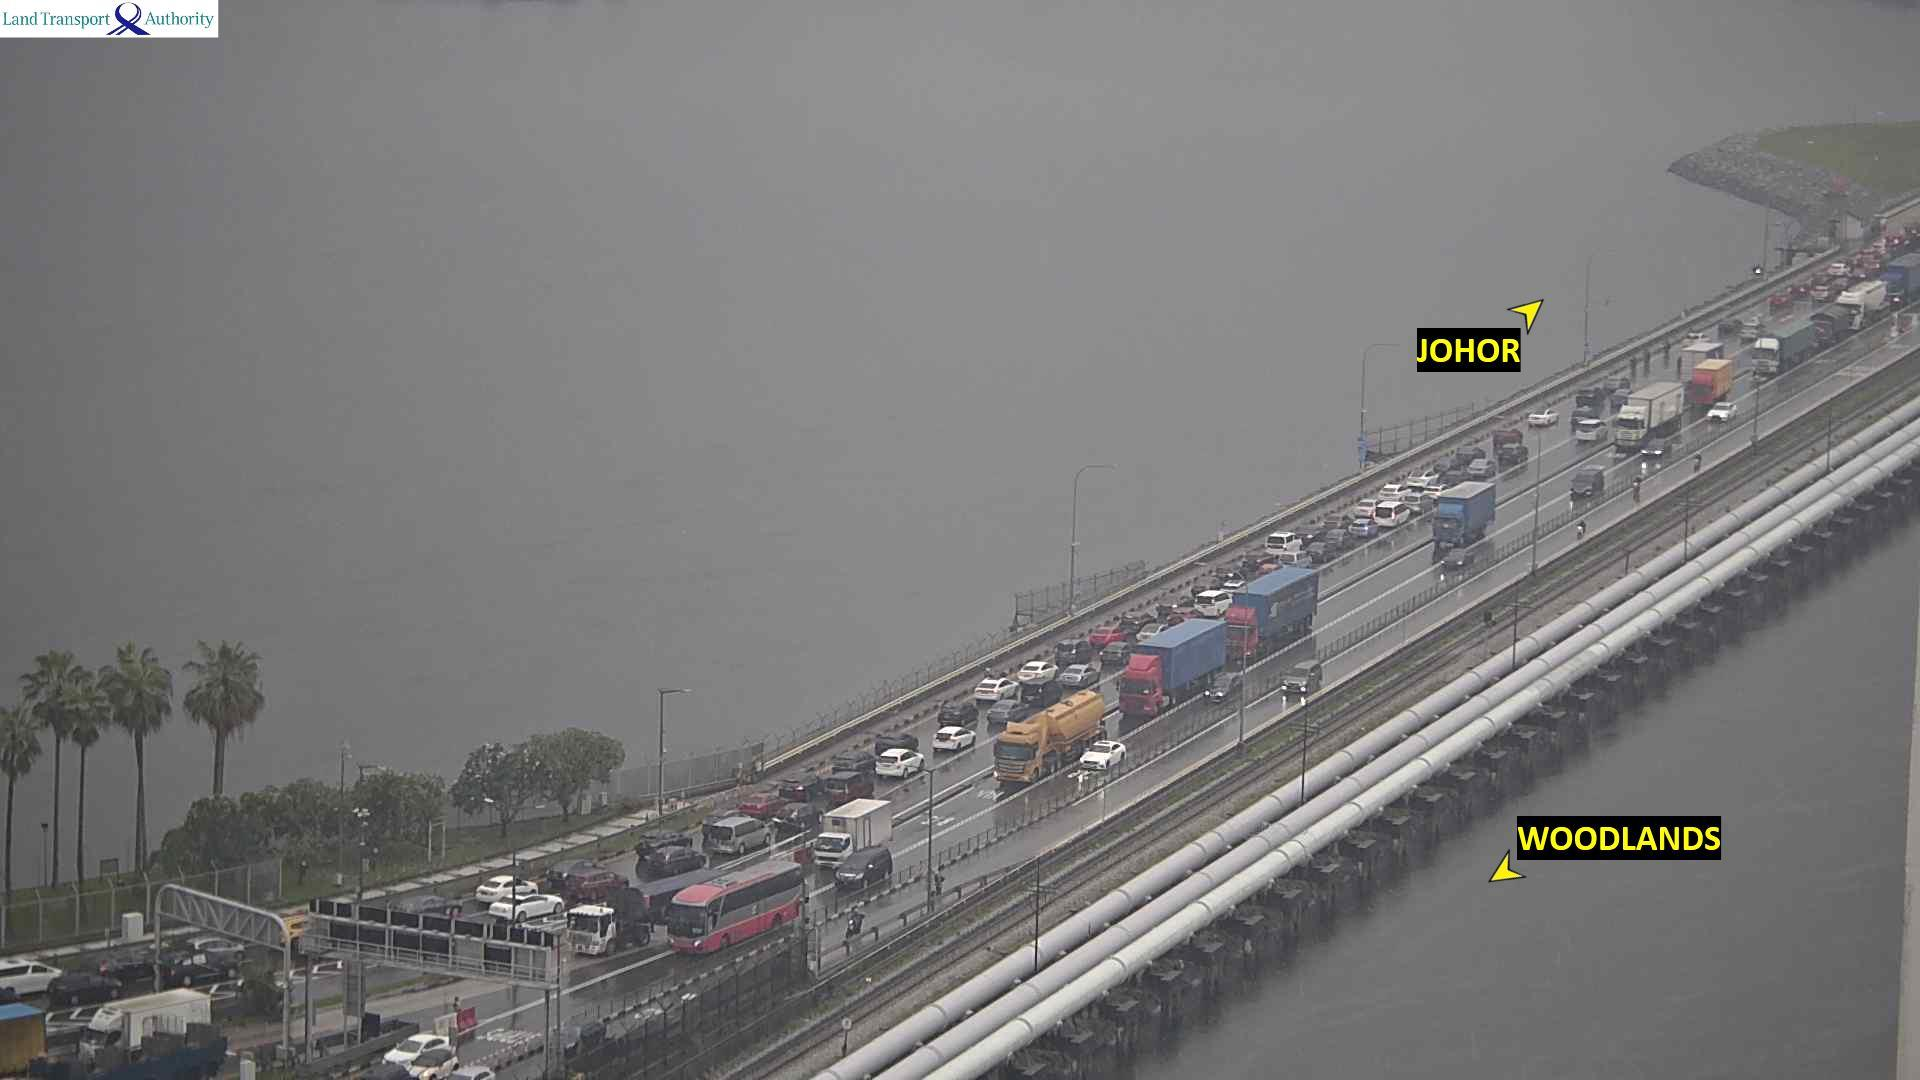vehicle-causeway-johor: (541, 868, 621, 903), (50, 973, 125, 1002), (1, 962, 63, 996), (473, 875, 538, 904), (491, 893, 563, 918), (638, 851, 705, 876), (819, 773, 874, 797), (775, 804, 822, 832), (875, 750, 923, 777), (187, 939, 246, 959), (707, 817, 765, 835), (1059, 663, 1100, 687), (935, 727, 977, 750), (740, 791, 781, 814), (392, 899, 458, 913), (780, 772, 818, 796), (638, 834, 694, 850), (940, 702, 977, 726), (875, 732, 919, 751), (1196, 591, 1232, 614), (974, 679, 1015, 699), (1016, 662, 1059, 681), (1374, 503, 1410, 525), (1266, 532, 1301, 553), (987, 701, 1023, 720), (1058, 640, 1088, 661), (1120, 612, 1153, 630), (1091, 626, 1125, 643), (1576, 385, 1601, 408), (1100, 642, 1130, 661), (1305, 543, 1335, 561), (1531, 412, 1566, 427), (1379, 484, 1411, 500), (1492, 429, 1519, 447), (1321, 513, 1351, 529), (1497, 446, 1527, 462), (1405, 494, 1433, 511), (1407, 472, 1437, 487), (1349, 519, 1377, 534), (1324, 531, 1350, 546), (1458, 446, 1482, 462), (1470, 459, 1494, 474), (1572, 409, 1590, 428), (1739, 325, 1763, 339), (1603, 377, 1630, 389), (1858, 258, 1879, 273), (1683, 334, 1711, 345), (1770, 290, 1789, 306), (1811, 285, 1831, 300), (1357, 500, 1376, 515), (1719, 320, 1740, 332), (1789, 282, 1807, 296), (1826, 264, 1848, 274), (1857, 249, 1879, 259), (1883, 235, 1902, 246), (1906, 225, 1919, 238)
vehicle-causeway-singapore: (569, 872, 723, 955), (78, 990, 211, 1067), (663, 865, 807, 935), (1119, 623, 1240, 702), (995, 692, 1118, 766), (1221, 571, 1321, 647), (815, 800, 903, 857), (1606, 386, 1681, 448), (0, 1008, 63, 1078), (1432, 492, 1500, 547), (1749, 330, 1816, 374), (1681, 360, 1741, 403), (1838, 282, 1888, 326), (382, 1035, 449, 1067), (832, 851, 894, 885), (1886, 250, 1920, 301), (1811, 306, 1847, 346), (403, 1053, 460, 1078), (1079, 742, 1126, 771), (1283, 661, 1322, 692), (1206, 672, 1242, 700), (1570, 477, 1605, 498), (1441, 551, 1478, 568), (1706, 406, 1737, 421), (847, 910, 862, 933), (1632, 477, 1642, 498), (1576, 519, 1585, 537), (1693, 451, 1702, 468)
